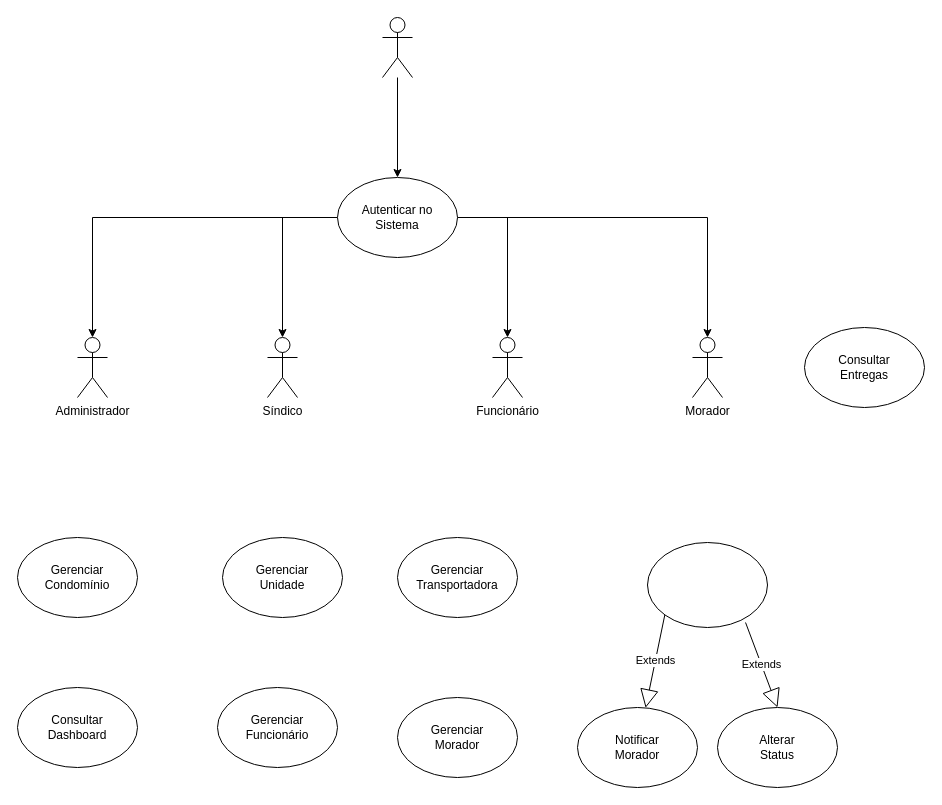
The diagram is 942 pixels wide and 805 high, and some of its shapes have lost their labels. The centre of each missing label's shape, as x and y in pixels:
Gerenciar Entrega: point 707,585
Usuário: point 397,47
